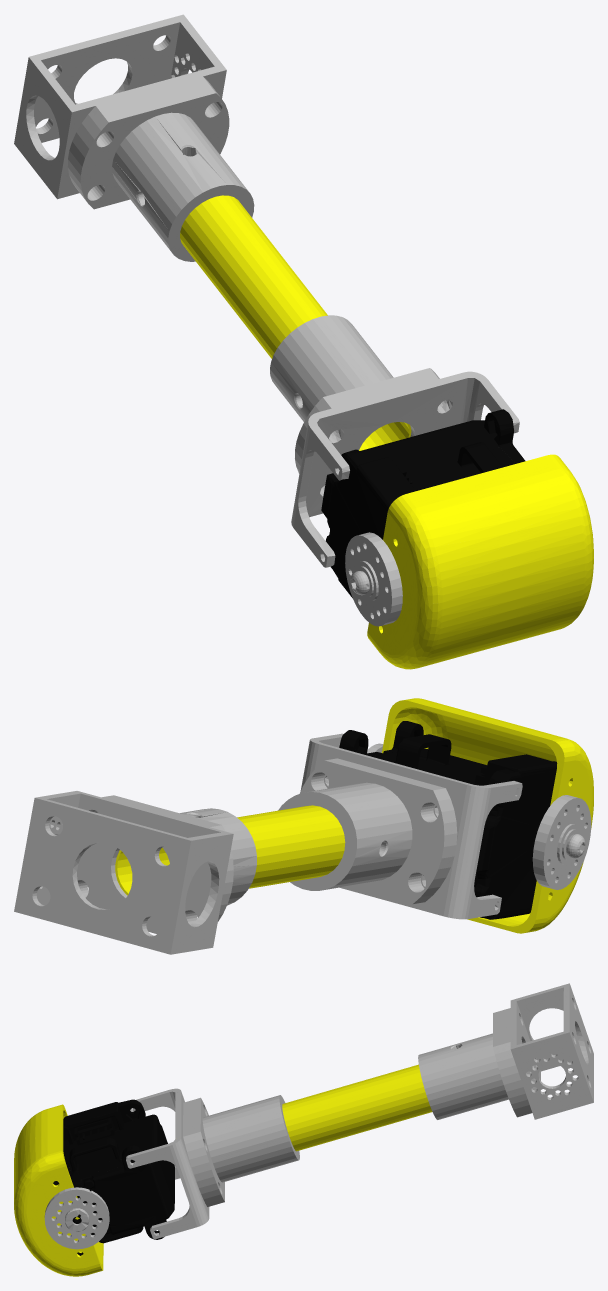
File: mini2_arm_fore_module.dae
The picture shows the model from 3 angles, top to bottom: view 1: azimuth 30°, elevation 25°; view 2: azimuth 150°, elevation 25°; view 3: azimuth 270°, elevation 25°; orthographic projection. The views are drawn at different scales.
Parts seen in each view (by area): view 1: node; view 2: node; view 3: node.
Boxes of the visible parts, x1,y1,x2,y2 form: node: [14, 14, 593, 669]; node: [14, 698, 593, 954]; node: [14, 983, 593, 1276].
Size of the model in its own units: 5.56 by 8.75 by 18.74.
1 material, 1 textured.
